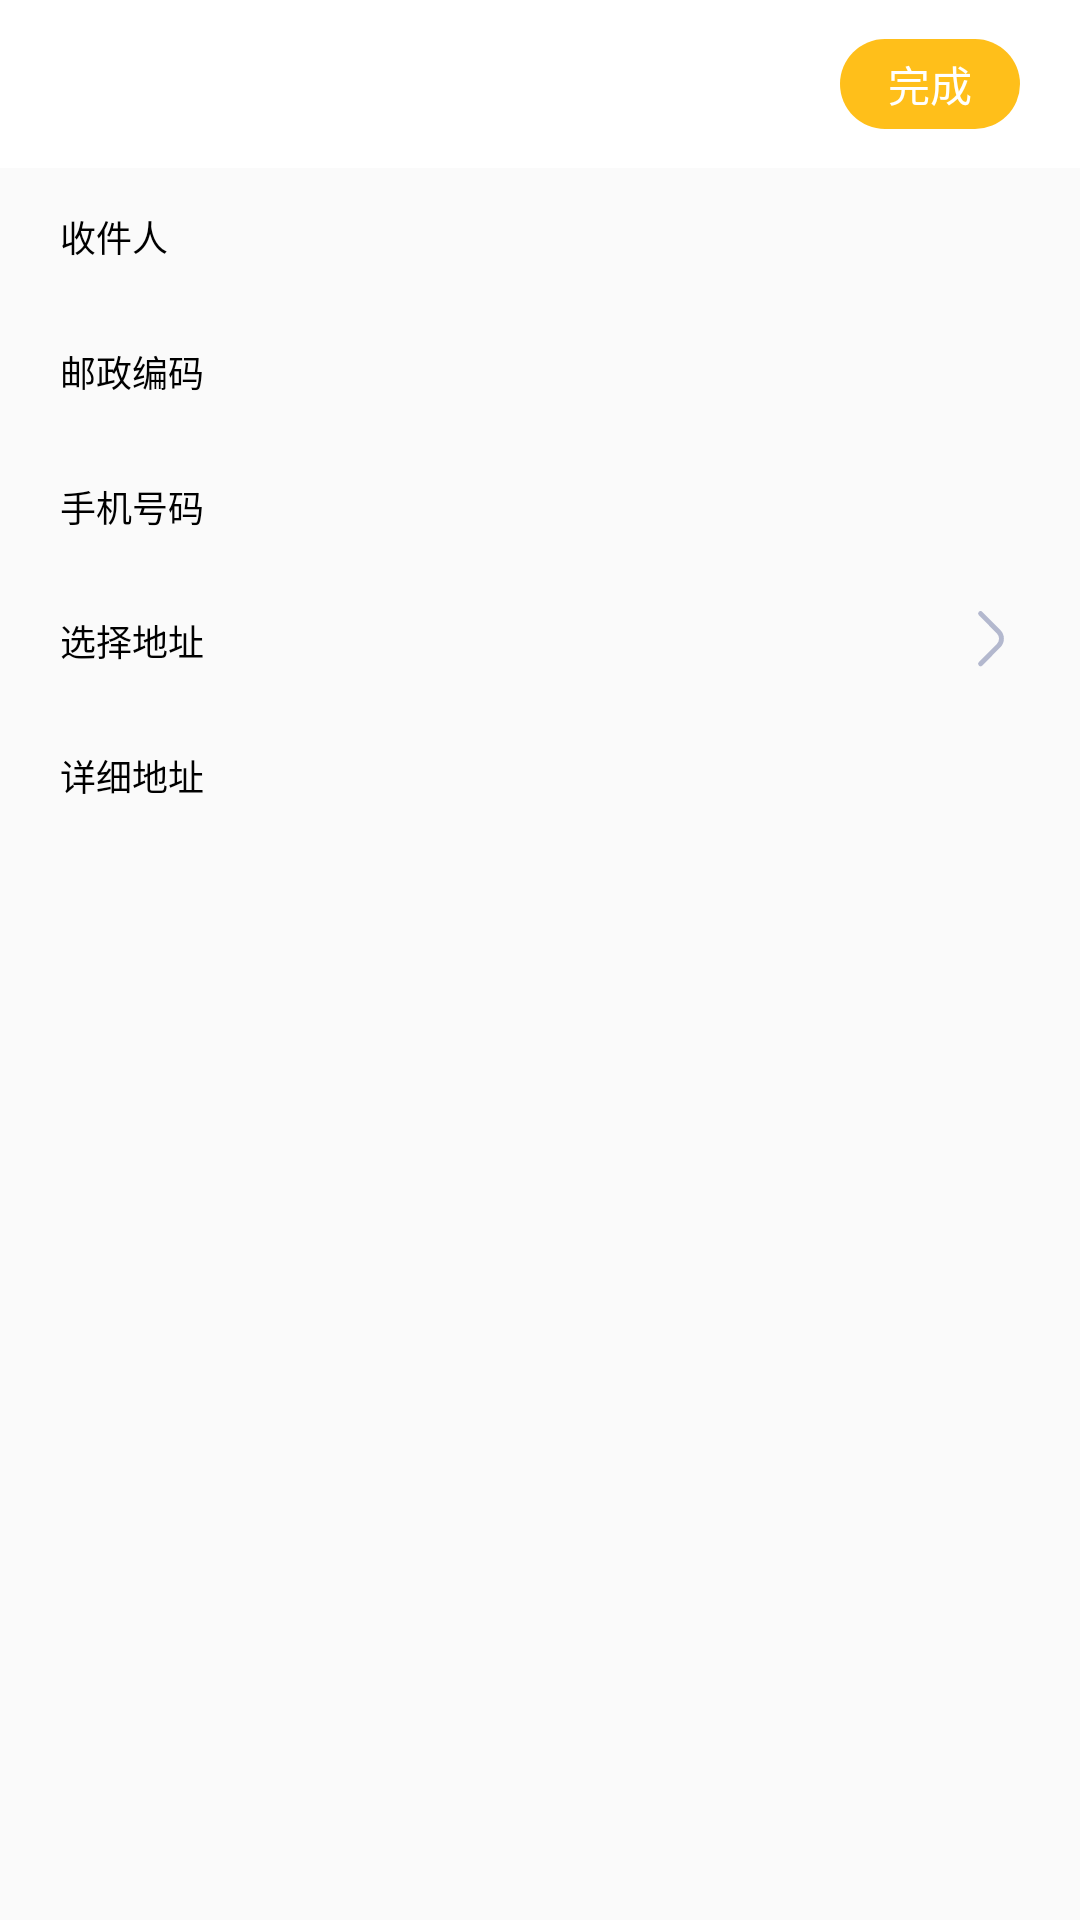

Where icons sit on this 1080 × 1920 app screen, as {"x1": x1, "y1": y1, "x2": x2, "y2": y2}:
right arrow: {"x1": 978, "y1": 611, "x2": 1004, "y2": 666}
